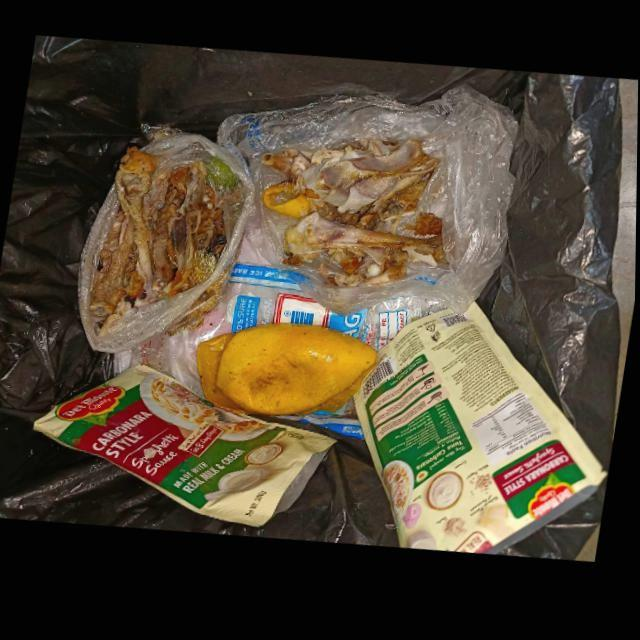food_wrapper: (354, 307, 609, 562), (34, 366, 339, 531)
left_over_food: (262, 144, 449, 292), (91, 150, 227, 329)
plastic_bag: (217, 91, 518, 323), (78, 136, 255, 352)
